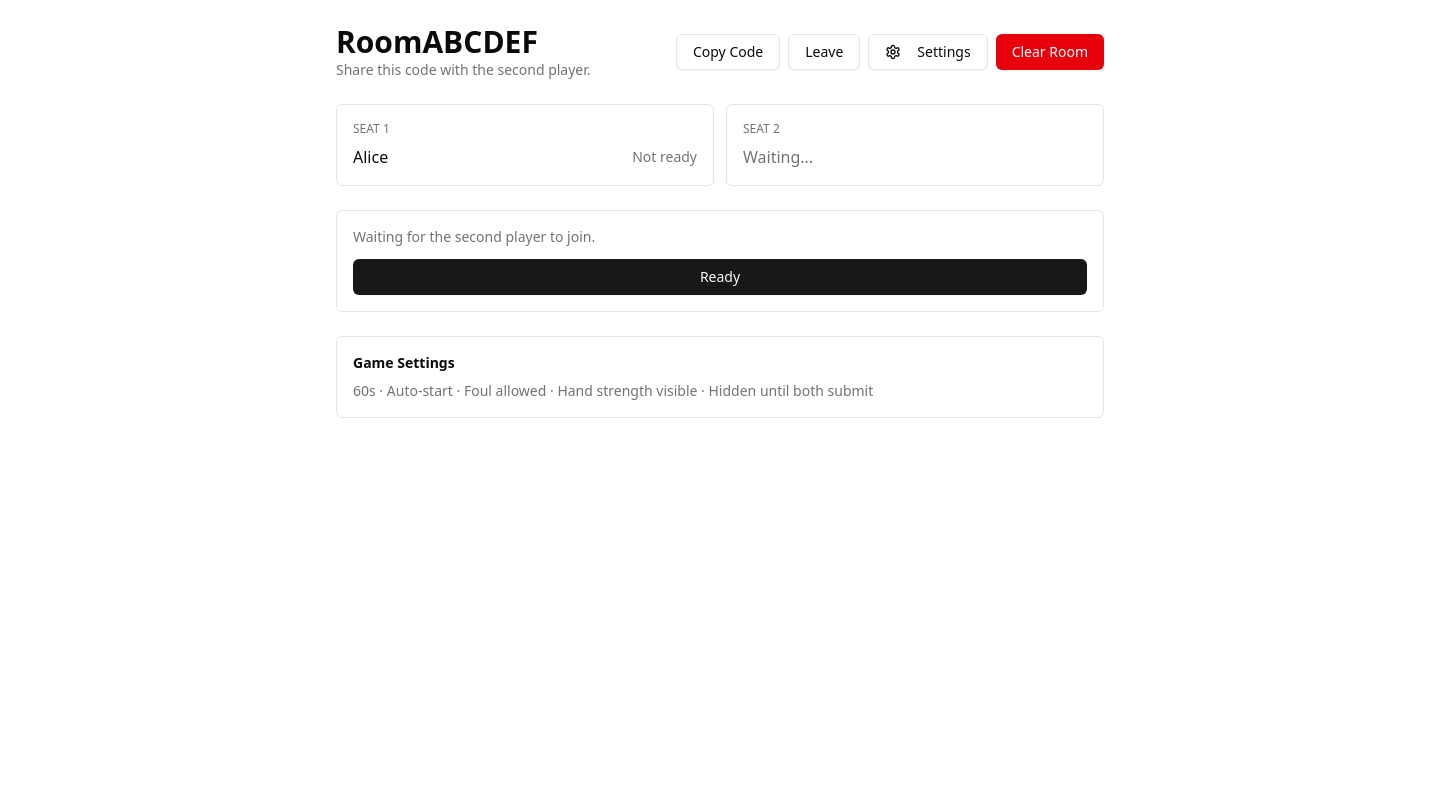
it: lobby page - settings › opens Settings modal when Settings button is clicked
Click the button "Settings" at (928,52), box [868,34,988,70]
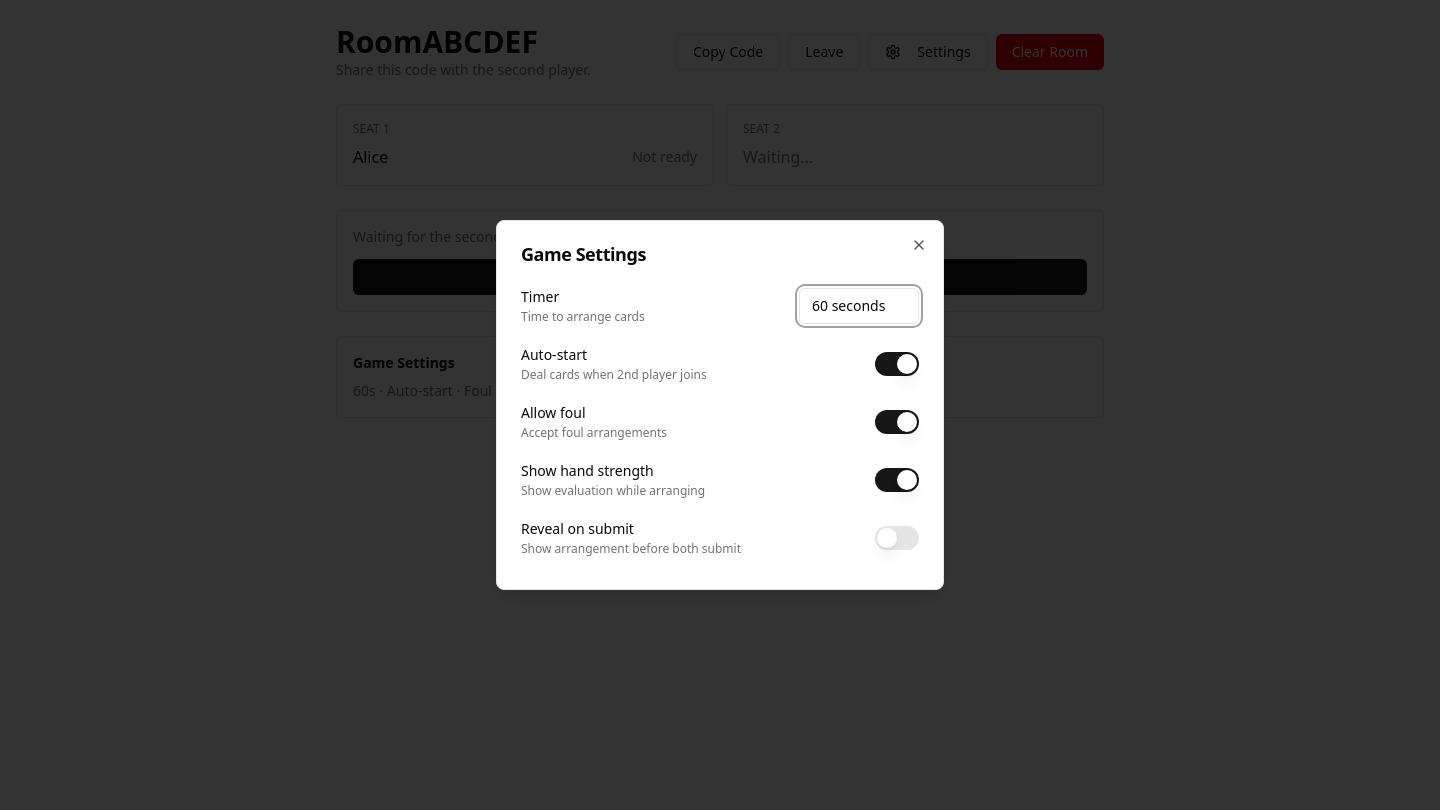
Expected: the dialog is shown, [496,220,944,590]
